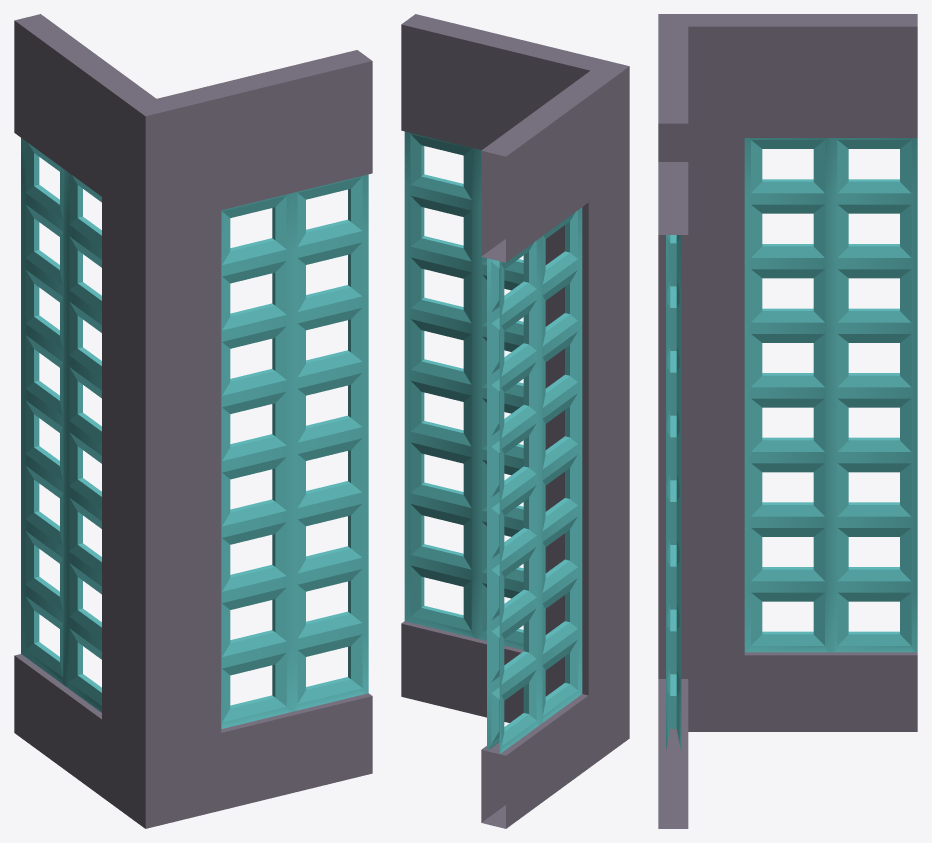
Rendered from EM_100_window_fence_corner.glb.
The picture shows the model from 3 angles, left to right: view 1: azimuth 30°, elevation 25°; view 2: azimuth 150°, elevation 25°; view 3: azimuth 270°, elevation 25°; orthographic projection. The views are drawn at different scales.
Parts seen in each view (by area): view 1: wall_corner, fence; view 2: wall_corner, fence; view 3: wall_corner, fence.
Boxes of the visible parts, x1=… form: wall_corner: x1=14, y1=14, x2=372, y2=828; fence: x1=21, y1=138, x2=368, y2=728; wall_corner: x1=401, y1=14, x2=629, y2=828; fence: x1=404, y1=131, x2=582, y2=753; wall_corner: x1=658, y1=14, x2=917, y2=828; fence: x1=666, y1=138, x2=917, y2=751.
Size of the model in its own units: 0.75 by 2.25 by 0.75.
